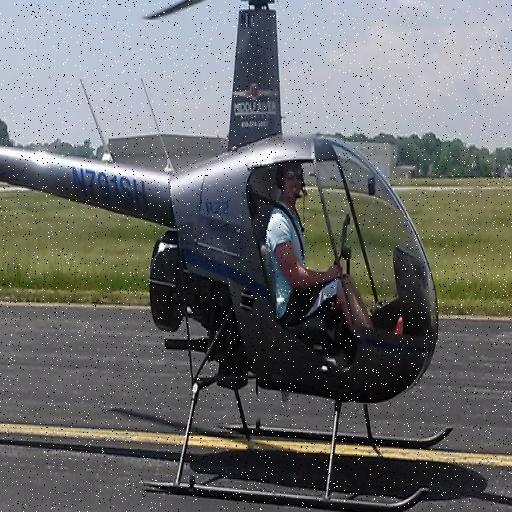helicopter: (1, 1, 456, 512)
